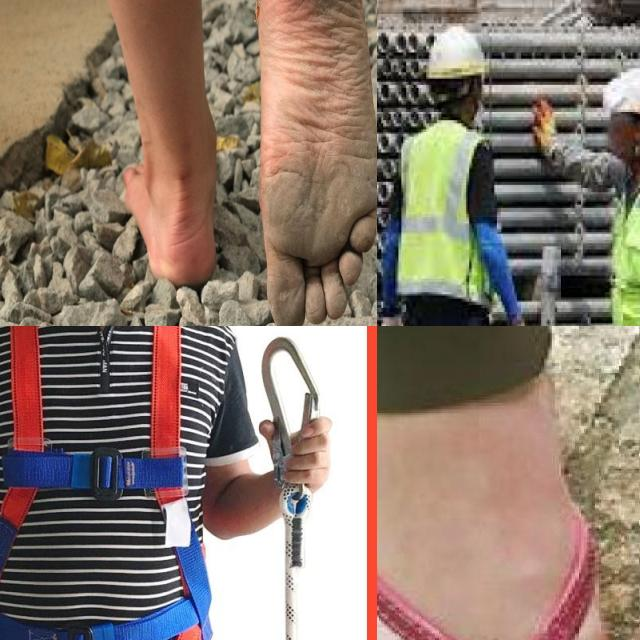Barefoots: (377, 370, 637, 640), (258, 0, 377, 326), (123, 140, 218, 288)
Harness: (0, 326, 216, 640)
